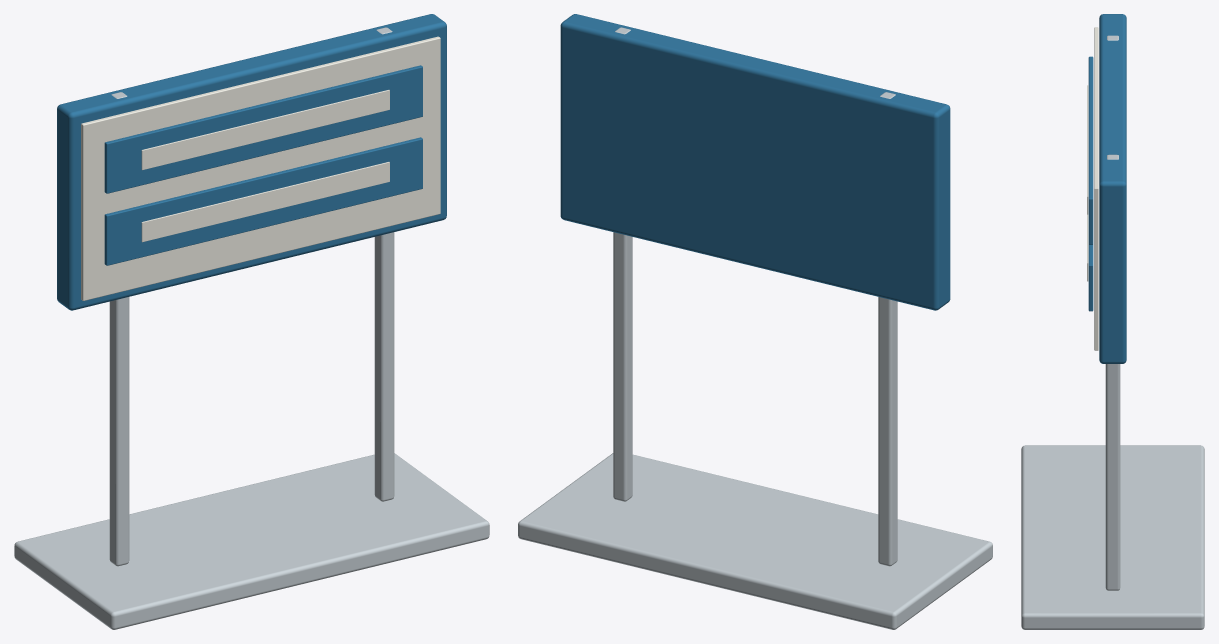
Rendered from curling-club-and-ice-maintenance-player-name-board-52f2384c__31284.glb.
3 views of the same model, side by side, from view 1: azimuth 30°, elevation 25°; view 2: azimuth 150°, elevation 25°; view 3: azimuth 270°, elevation 25° (orthographic). The views are drawn at different scales.
Parts seen in each view (by area): view 1: player-name-board; view 2: player-name-board; view 3: player-name-board.
Boxes of the visible parts, x1,y1,x2,y2 form: player-name-board: (14,14,489,629); player-name-board: (518,14,992,629); player-name-board: (1021,14,1204,629).
Size of the model in its own units: 1.1 by 1.35 by 0.5.
